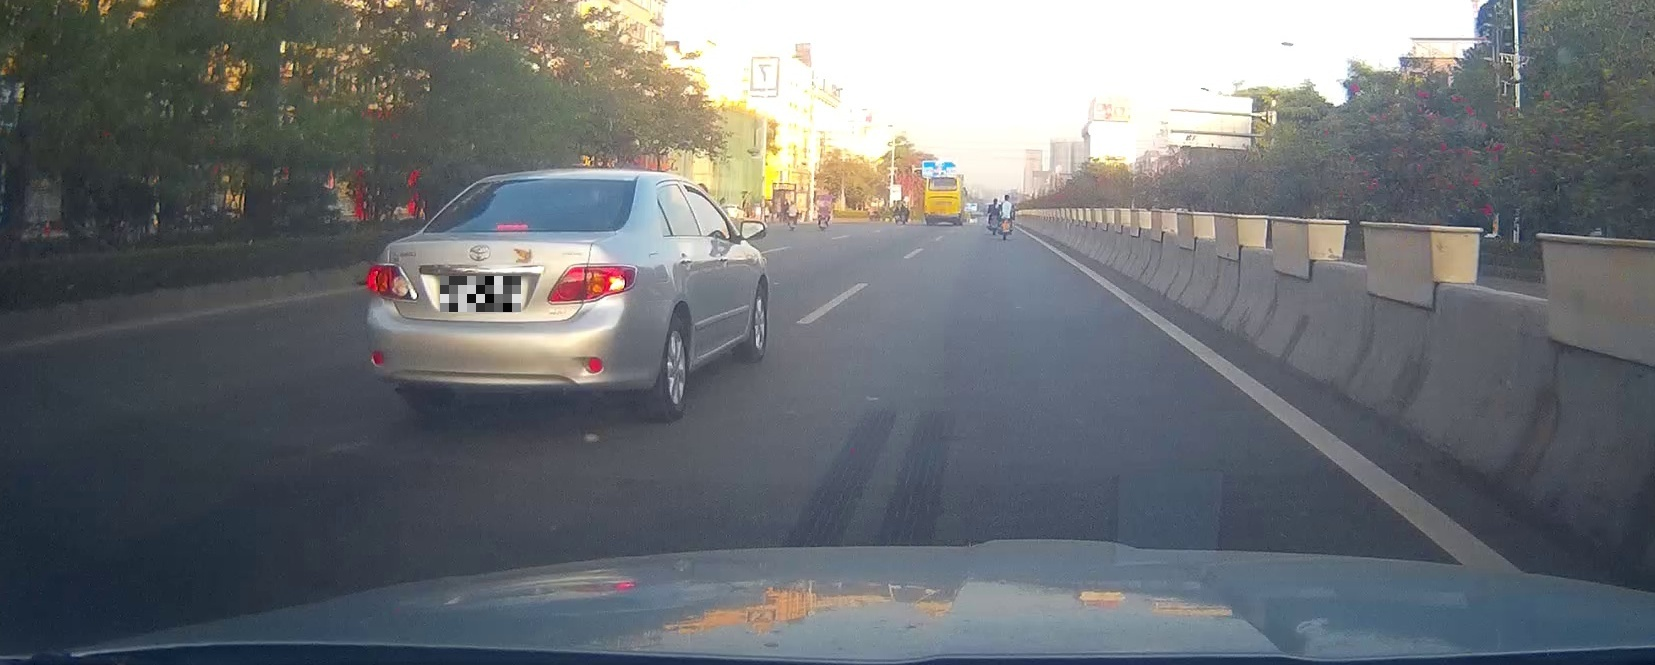L_light: (366, 262, 417, 303)
R_light: (546, 264, 638, 305)
T_light: (496, 223, 528, 232)
day-right: (363, 167, 648, 425)
plate_1: (440, 275, 521, 312)
